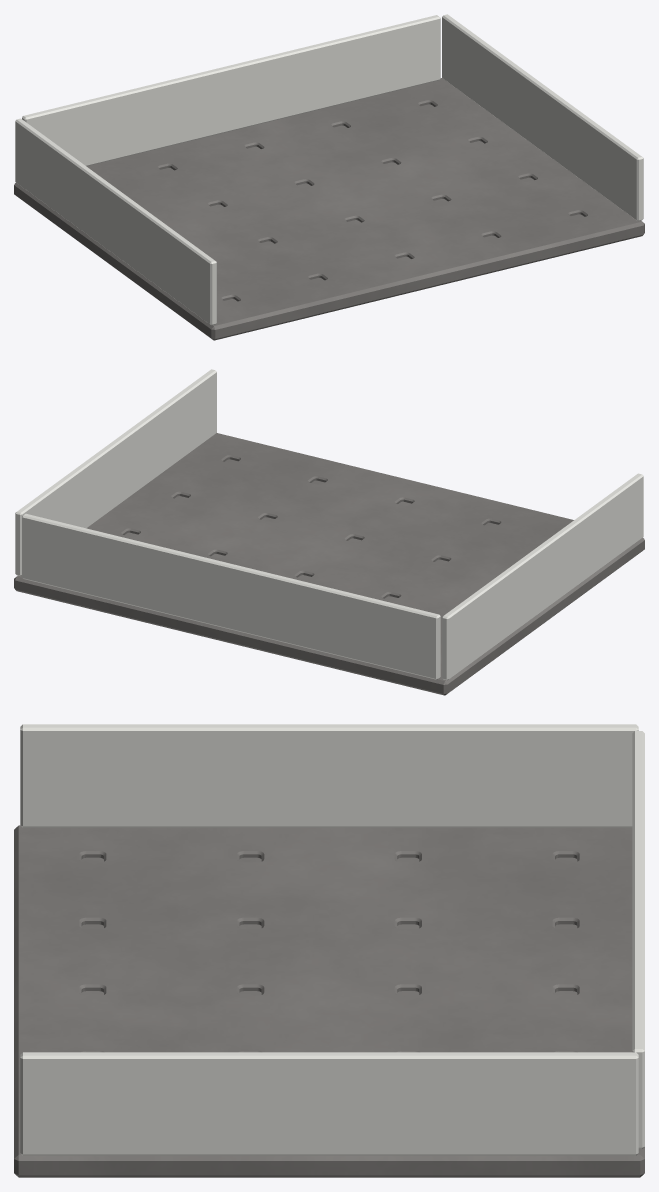
Rendered from ax_rover_24_cargo_bed_m.glb.
3 views of the same model, one above another, from view 1: azimuth 30°, elevation 25°; view 2: azimuth 150°, elevation 25°; view 3: azimuth 270°, elevation 25° (orthographic). The views are drawn at different scales.
Visible parts, largest first — view 1: bed_deck, panel_tailgate, panel_side_r, panel_side_l; view 2: bed_deck, panel_tailgate, panel_side_r, panel_side_l; view 3: bed_deck, panel_side_l, panel_side_r, panel_tailgate.
Part boxes in pixels (<box>): bed_deck: <box>14,78,644,340</box>; panel_tailgate: <box>22,15,440,166</box>; panel_side_r: <box>15,118,216,325</box>; panel_side_l: <box>442,14,643,221</box>; bed_deck: <box>14,433,644,695</box>; panel_tailgate: <box>22,513,440,679</box>; panel_side_r: <box>442,473,643,680</box>; panel_side_l: <box>15,369,216,576</box>; bed_deck: <box>14,825,644,1177</box>; panel_side_l: <box>20,1052,638,1155</box>; panel_side_r: <box>20,724,638,827</box>; panel_tailgate: <box>632,731,644,1148</box>.
Bounding box in the file's own units: 2.5 × 0.43 × 2.
2 materials, 1 textured.
